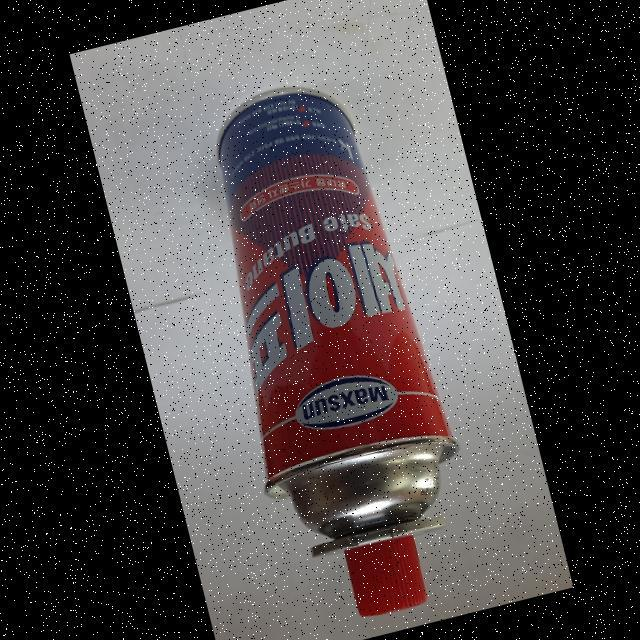chemical_spray_can: (161, 50, 504, 640)
